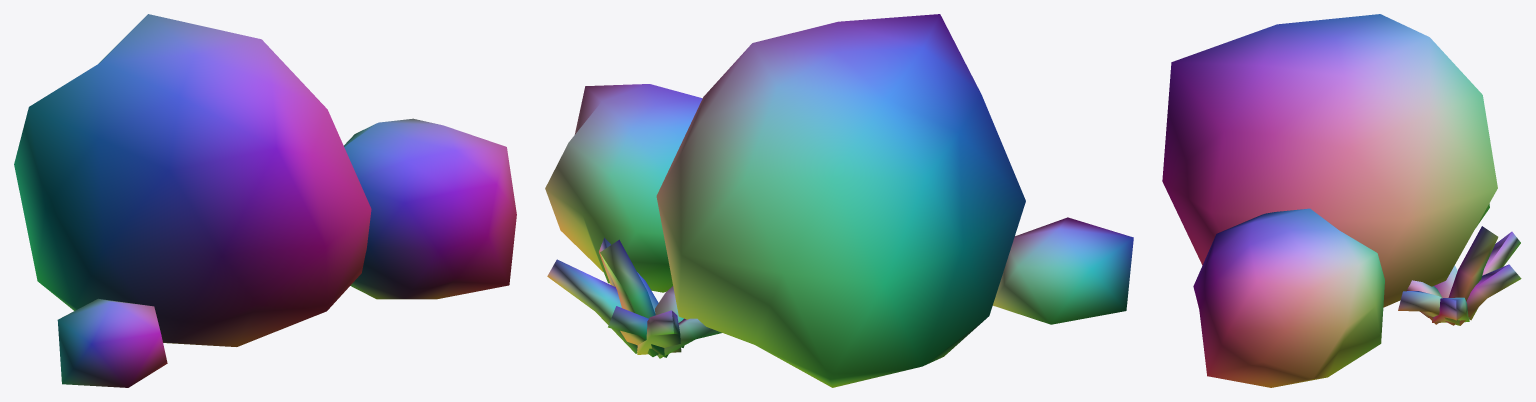
File: SM_Rock_Plains_Cluster_C.fbx
3 views of the same model, side by side, from view 1: azimuth 30°, elevation 25°; view 2: azimuth 150°, elevation 25°; view 3: azimuth 270°, elevation 25° (orthographic). The views are drawn at different scales.
Parts seen in each view (by area): view 1: SM_Rock_Plains_Cluster_C; view 2: SM_Rock_Plains_Cluster_C; view 3: SM_Rock_Plains_Cluster_C.
Part boxes in pixels (x1,y1,x2,y2): SM_Rock_Plains_Cluster_C: [14, 14, 516, 387]; SM_Rock_Plains_Cluster_C: [545, 14, 1133, 387]; SM_Rock_Plains_Cluster_C: [1162, 14, 1521, 387].
Size of the model in its own units: 0.8695 by 0.4661 by 0.6174.
